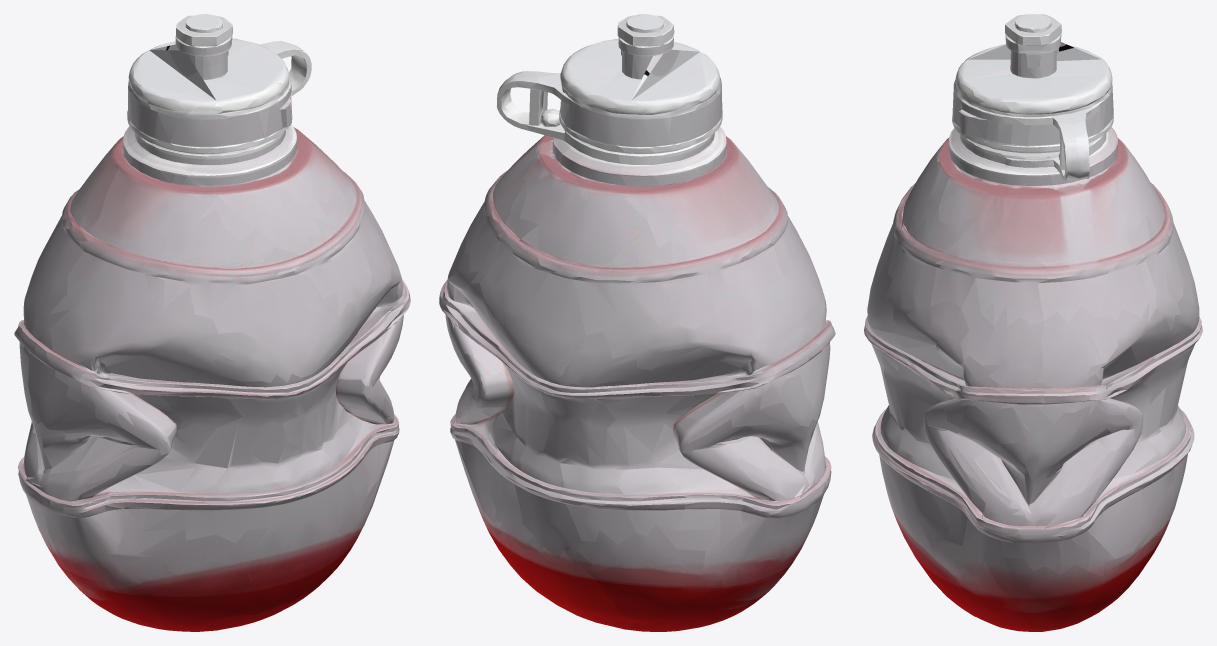
3 views of the same model, side by side, from view 1: azimuth 30°, elevation 25°; view 2: azimuth 150°, elevation 25°; view 3: azimuth 270°, elevation 25° (orthographic).
Parts seen in each view (by area): view 1: output_unwrapped; view 2: output_unwrapped; view 3: output_unwrapped.
Boxes of the visible parts, box(x1,y1,x2,y2) form: output_unwrapped: box(14, 14, 410, 631); output_unwrapped: box(439, 14, 835, 631); output_unwrapped: box(864, 14, 1202, 631).
Size of the model in its own units: 1.19 by 1.9 by 0.9938.
Materials: 1 (1 with a texture image).
